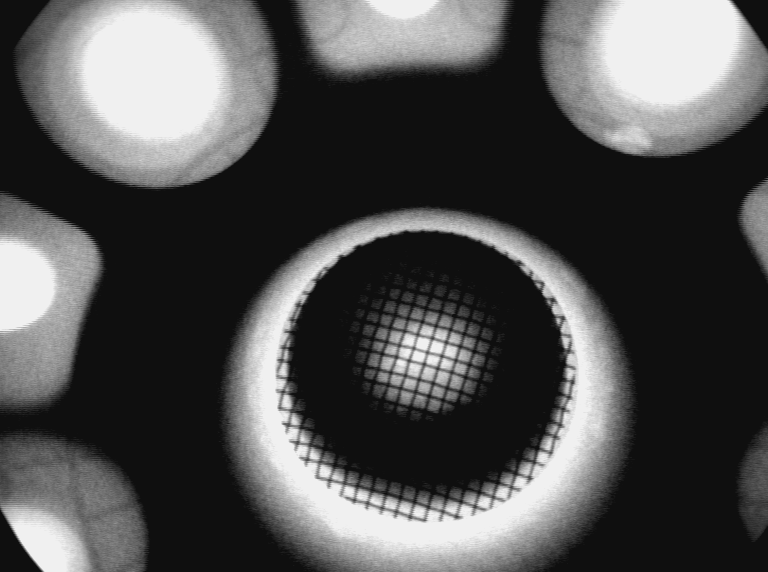defect: (606, 114, 651, 160)
